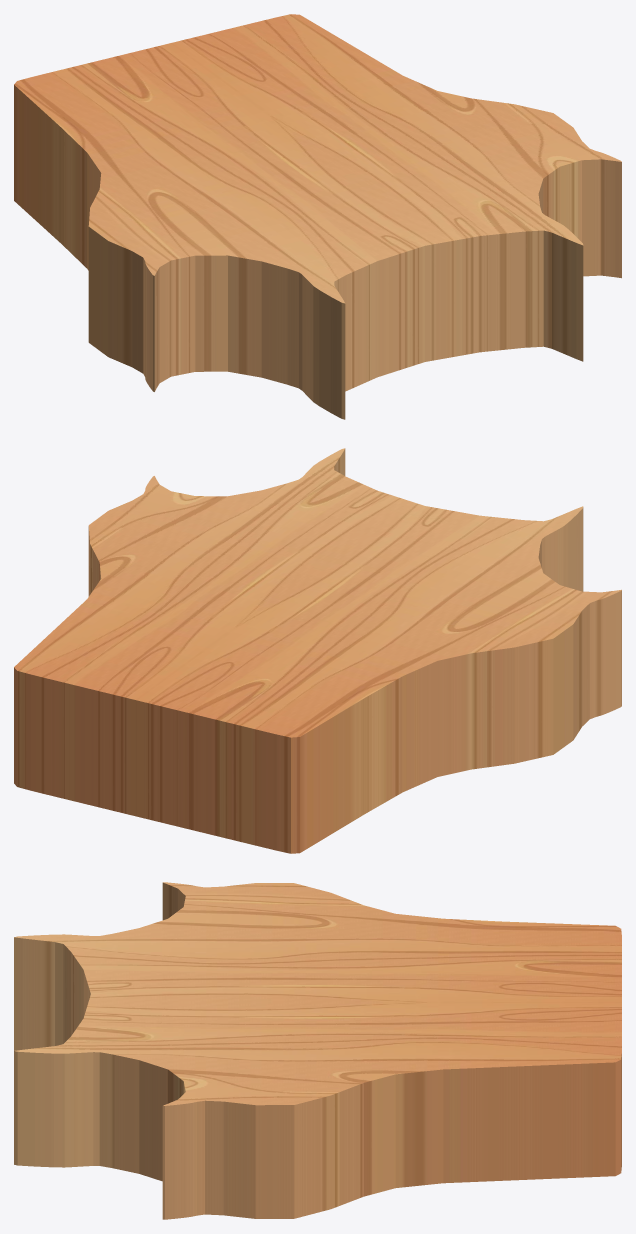
File: Block liberate_catpaw.fbx
The picture shows the model from 3 angles, top to bottom: view 1: azimuth 30°, elevation 25°; view 2: azimuth 150°, elevation 25°; view 3: azimuth 270°, elevation 25°; orthographic projection. The views are drawn at different scales.
Parts seen in each view (by area): view 1: Chan meo.005, Chan meo.006, Chan meo.003, Chan meo, Chan meo.007, Chan meo.008; view 2: Chan meo.007, Chan meo.006, Chan meo.008, Chan meo, Chan meo.005, Chan meo.003; view 3: Chan meo.005, Chan meo.007, Chan meo, Chan meo.003, Chan meo.006, Chan meo.008.
Part boxes in pixels (x1,y1,x2,y2): Chan meo.005: (422,95,621,361); Chan meo.006: (87,142,306,391); Chan meo.003: (252,169,435,419); Chan meo: (111,75,456,210); Chan meo.007: (117,14,402,139); Chan meo.008: (14,55,125,268); Chan meo.007: (14,599,355,827); Chan meo.006: (370,538,621,791); Chan meo.008: (184,672,402,853); Chan meo: (87,545,449,675); Chan meo.005: (88,448,424,596); Chan meo.003: (270,506,583,591); Chan meo.005: (14,994,377,1219); Chan meo.007: (430,938,621,1183); Chan meo: (245,932,469,1192); Chan meo.003: (14,934,247,1050); Chan meo.006: (106,882,451,949); Chan meo.008: (443,918,621,979).
Bounding box in the file's own units: 2.41 × 0.5705 × 2.76.
1 material, 1 textured.
